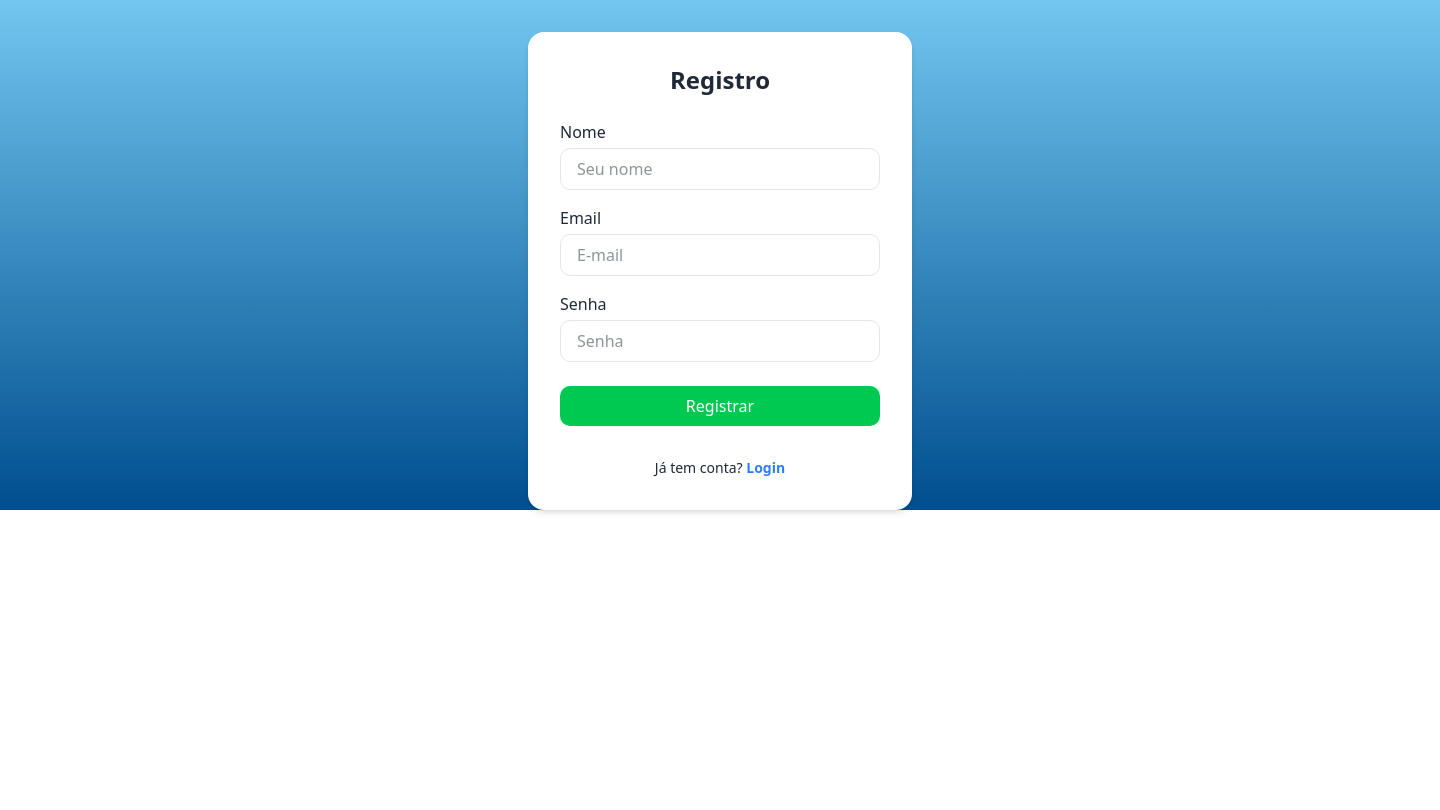
Test case: Tela de Registro › exibe erro se houver campos vazios e não registra o usuário
The width and height of the screenshot is (1440, 810).
Click the button "Registrar".
click(720, 406)  # box [560, 386, 880, 426]
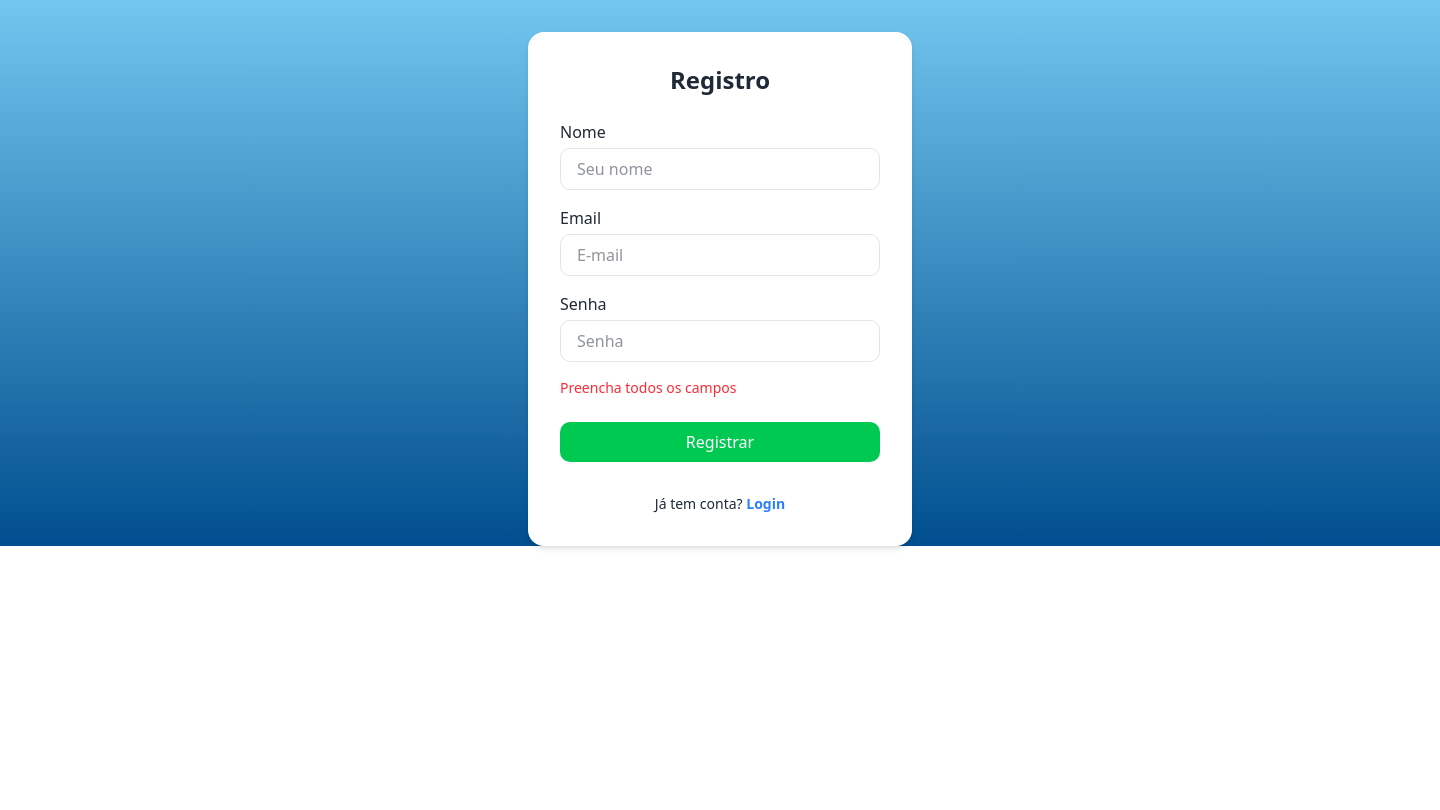
Check: the text "Preencha todos os campos" is shown, box [560, 378, 736, 397]
